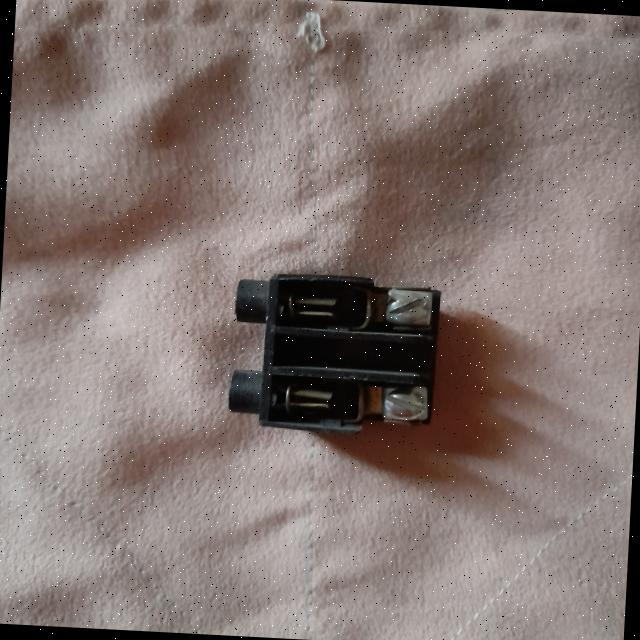Slotted: (384, 290, 435, 326), (382, 387, 427, 421)
